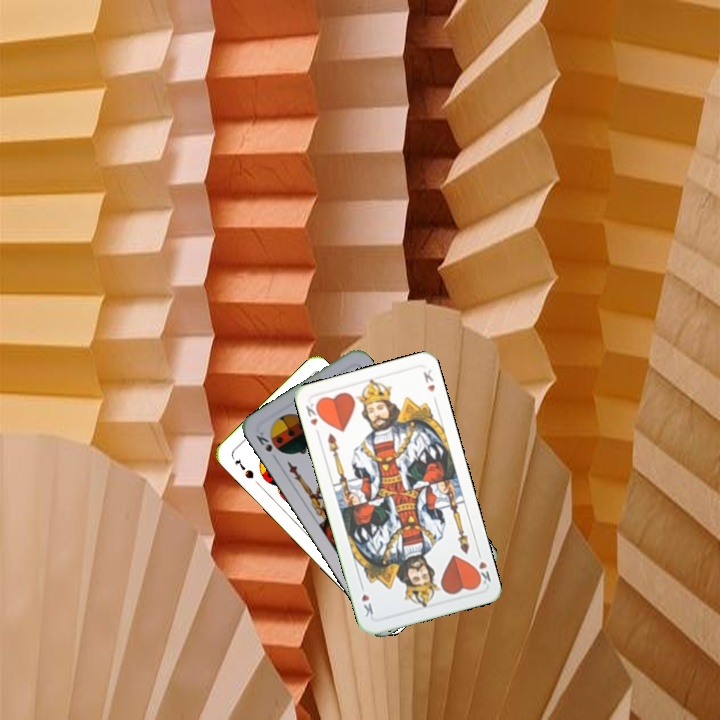HK: (470, 547, 493, 587), (301, 397, 324, 429)
S7: (231, 454, 256, 481)
SK: (252, 427, 275, 454)
